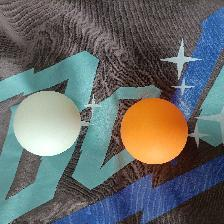WhiteBall: (12, 90, 80, 156)
YellowBall: (120, 97, 188, 164)
